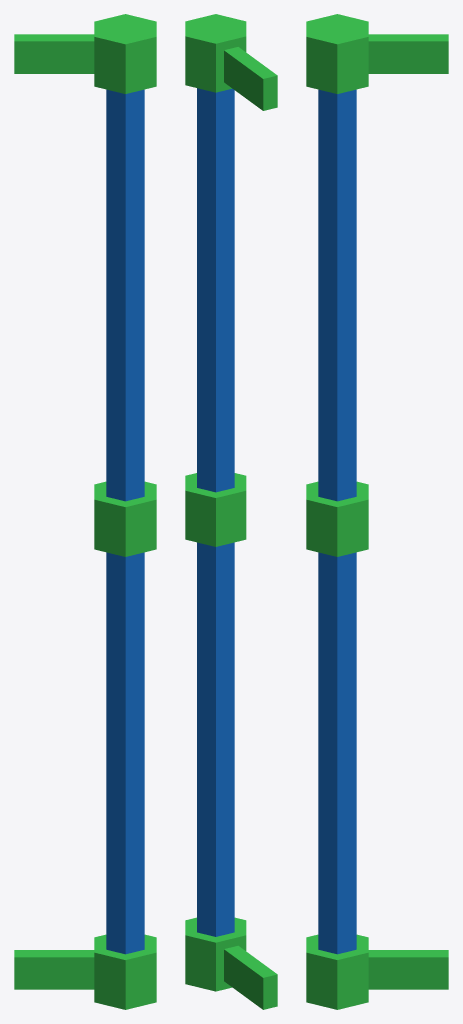
Rendered from SM_wall_lamp1.fbx.
3 renders of one model, left to right at view 1: azimuth 90°, elevation 25°; view 2: azimuth 210°, elevation 25°; view 3: azimuth 270°, elevation 25°, orthographic.
Visible parts, largest first — view 1: wall_lamp1; view 2: wall_lamp1; view 3: wall_lamp1.
Part boxes in pixels (left/top/right/bottom): wall_lamp1: left=14, top=14, right=156, bottom=1009; wall_lamp1: left=185, top=14, right=277, bottom=1009; wall_lamp1: left=306, top=14, right=448, bottom=1009.
Bounding box in the file's own units: 6.98 × 104 × 13.83.
